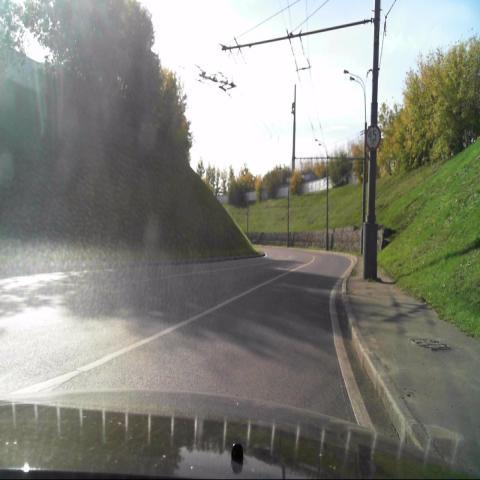3_13: (364, 120, 382, 151)
